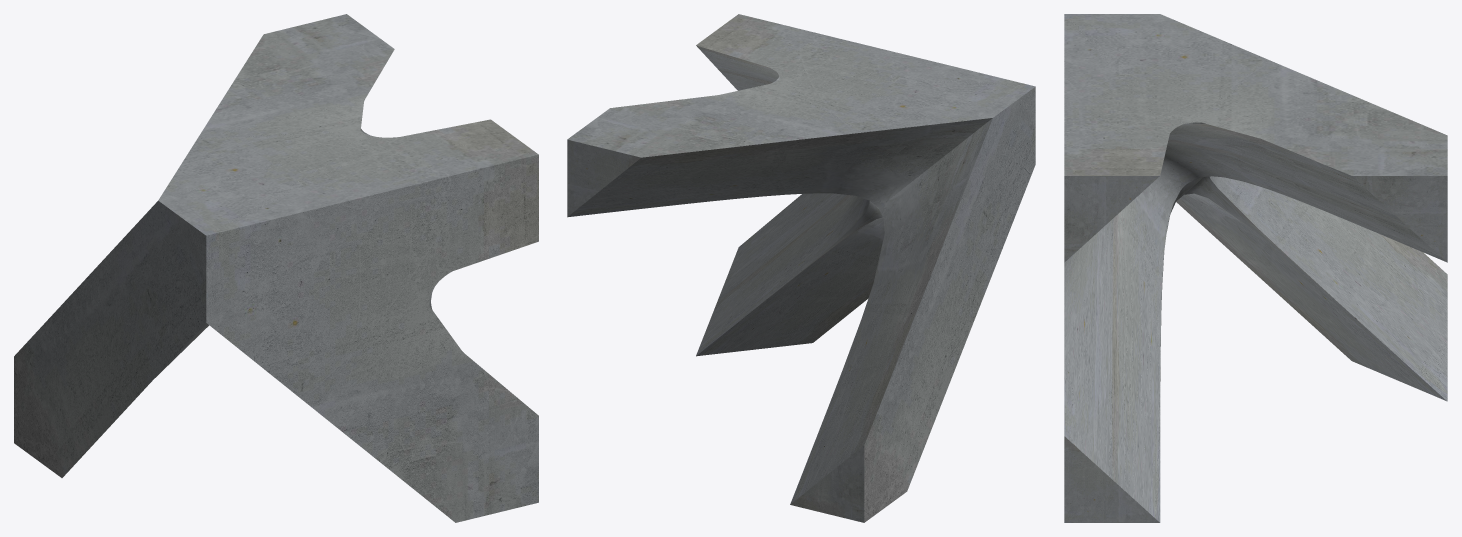
The model's file is module_R1.fbx.
3 views of the same model, side by side, from view 1: azimuth 30°, elevation 25°; view 2: azimuth 150°, elevation 25°; view 3: azimuth 270°, elevation 25° (orthographic). The views are drawn at different scales.
Parts seen in each view (by area): view 1: modules; view 2: modules; view 3: modules.
Boxes of the visible parts, left/top/right/bottom form: modules: left=14, top=14, right=538, bottom=522; modules: left=567, top=14, right=1035, bottom=522; modules: left=1064, top=14, right=1447, bottom=522.
Size of the model in its own units: 1000 by 1000 by 1000.
1 material, 1 textured.
